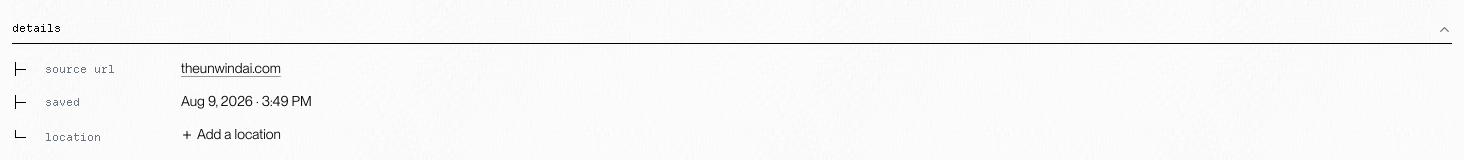
Scenario: collapses on a tap, and opens expanded again for the next item
Later steps or results of the test are not shown.
Click the button "details". click: (36, 28)
box: [12, 16, 1452, 44]
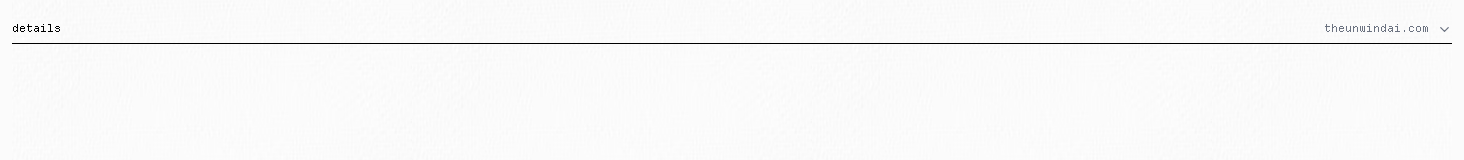
Expected: the button "details theunwindai.com" is collapsed, [12, 16, 1452, 44]
